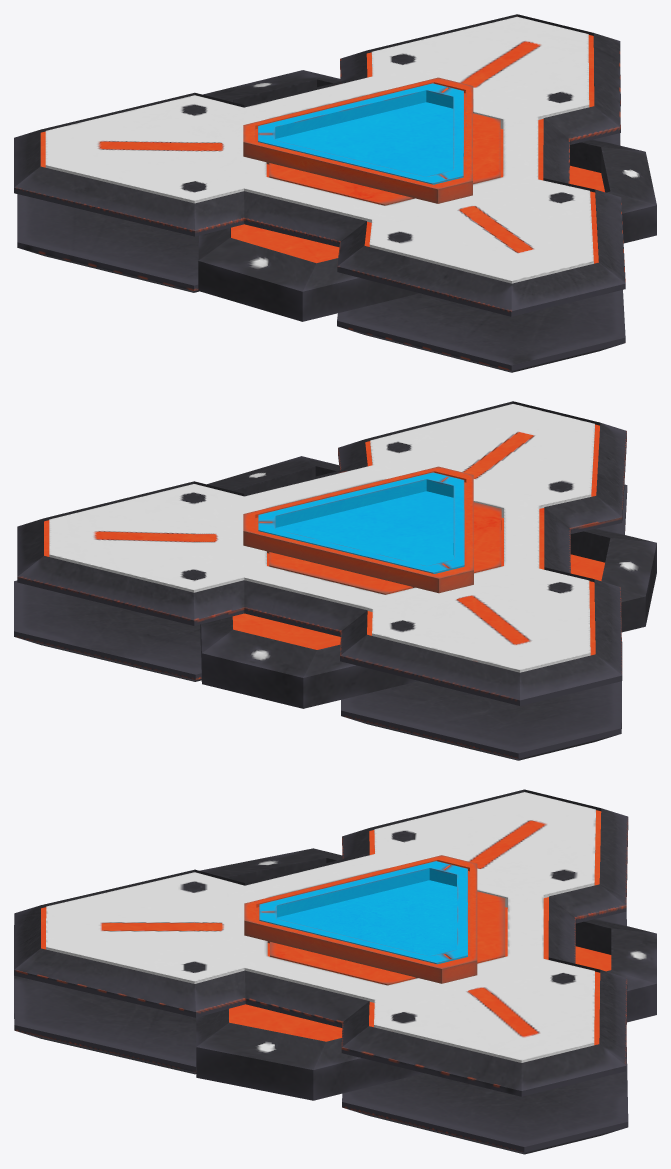
File: TEXTURED_HologramProjector.fbx
The picture shows the model from 3 angles, top to bottom: view 1: azimuth 30°, elevation 25°; view 2: azimuth 150°, elevation 25°; view 3: azimuth 270°, elevation 25°; orthographic projection.
Parts seen in each view (by area): view 1: HP_Low; view 2: HP_Low; view 3: HP_Low.
Boxes of the visible parts, x1,y1,x2,y2 form: HP_Low: (14, 14, 656, 372); HP_Low: (14, 401, 656, 760); HP_Low: (14, 789, 656, 1154).
Bounding box in the file's own units: 344 × 63.99 × 311.
Materials: 3 (3 with a texture image).
